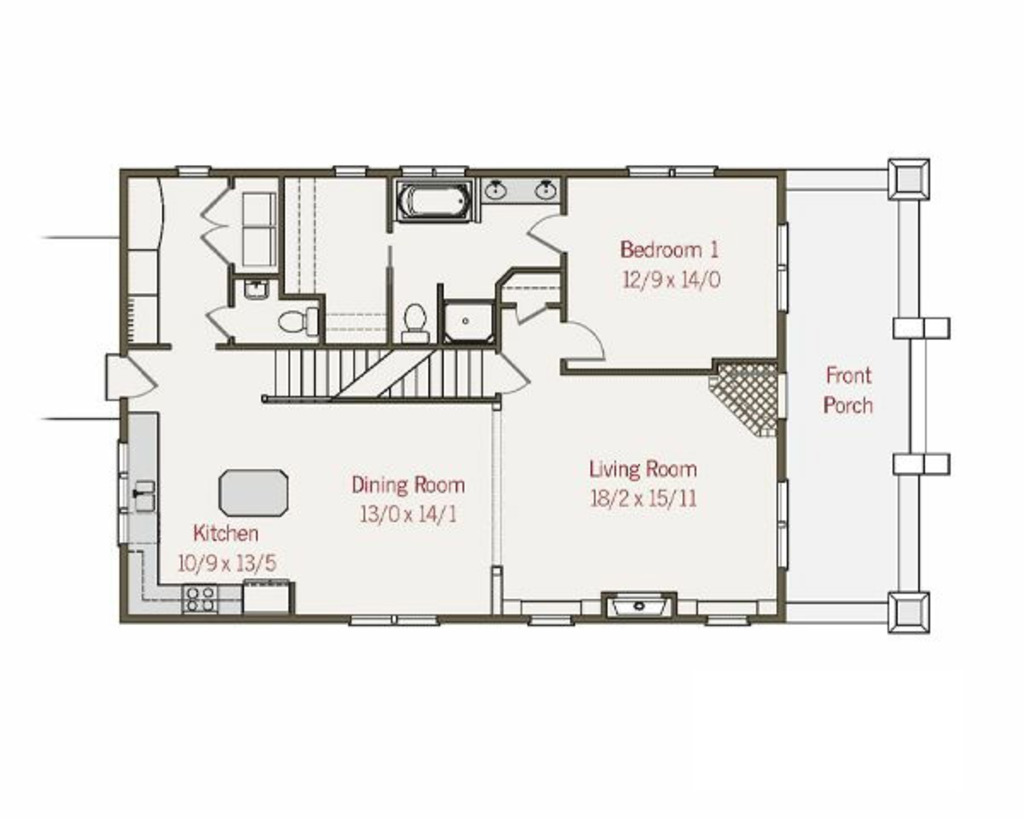door: (191, 178, 246, 270), (495, 346, 536, 403), (528, 206, 573, 256), (121, 351, 161, 405), (565, 319, 611, 365), (200, 305, 238, 342), (515, 294, 548, 328)
kitchen_bar: (197, 463, 303, 528)
large_sink: (395, 290, 436, 344), (267, 299, 322, 339)
small_sink: (482, 176, 562, 209), (237, 275, 276, 305)
small_sofa: (242, 228, 283, 271), (240, 193, 283, 225)
stairs: (247, 345, 493, 409)
tub: (400, 185, 477, 225)
twin_sink: (130, 478, 160, 521)
window: (622, 161, 721, 180), (350, 611, 441, 629), (776, 216, 792, 318), (777, 480, 792, 570), (401, 163, 463, 181), (778, 371, 791, 425), (707, 610, 751, 625), (530, 616, 571, 625)
